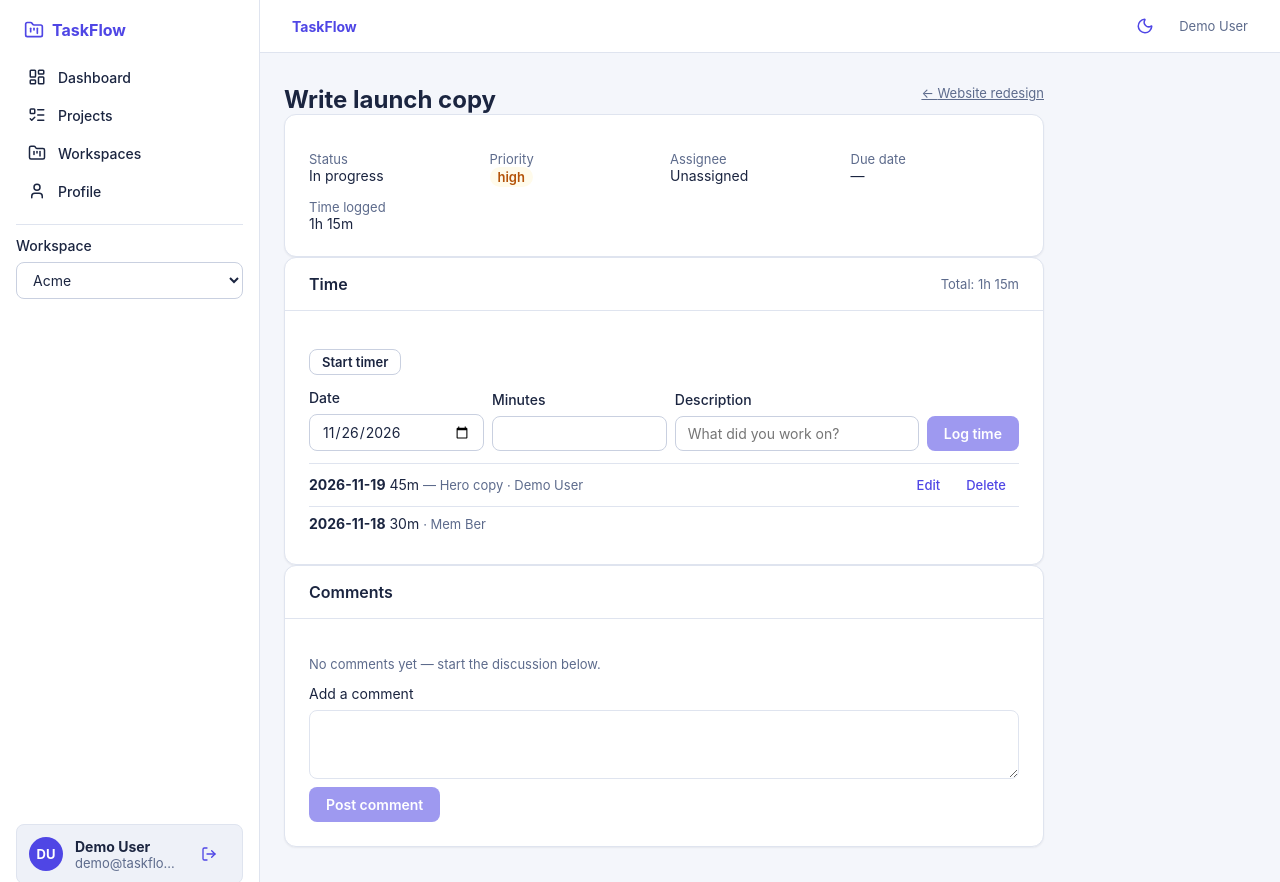
Test: Time tracking — "Member sees own-entry controls only" (@w2) › member can edit/delete own entries but not another member’s
Check: the text "— Hero copy" is shown, box [423,477,503,493]
Check: the button with aria-label "Delete time entry by Demo User" is shown, box [953,472,1019,498]
Note: edit flow updates minutes
Step 1. Click the button with aria-label "Edit time entry by Demo User" → (928, 485), box [904,472,953,498]
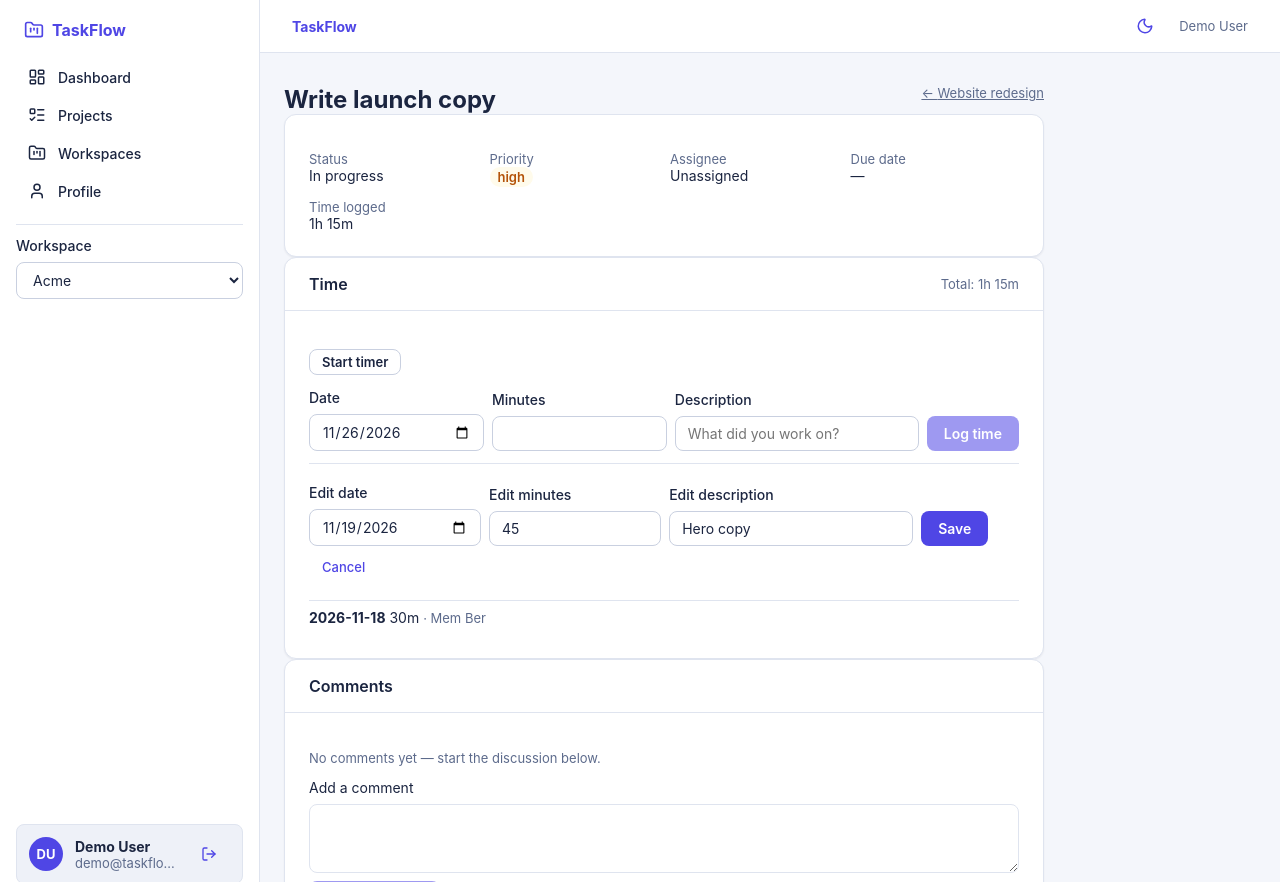
Step 2. Replace the text in the number field labelled "Edit minutes" with "60" → (575, 528), box [489,511,661,546]
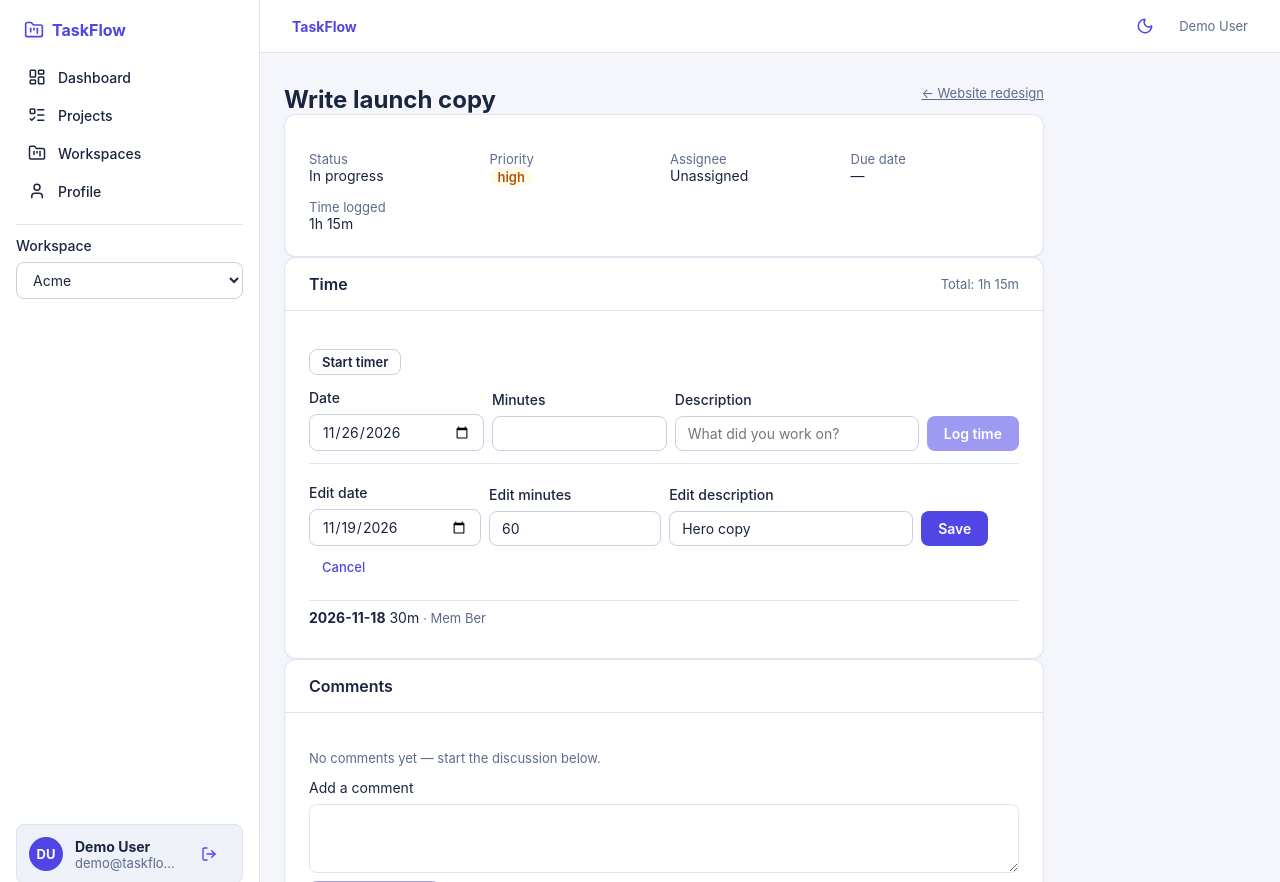
Step 3. Click the button "Save" → (955, 528), box [921,511,988,546]
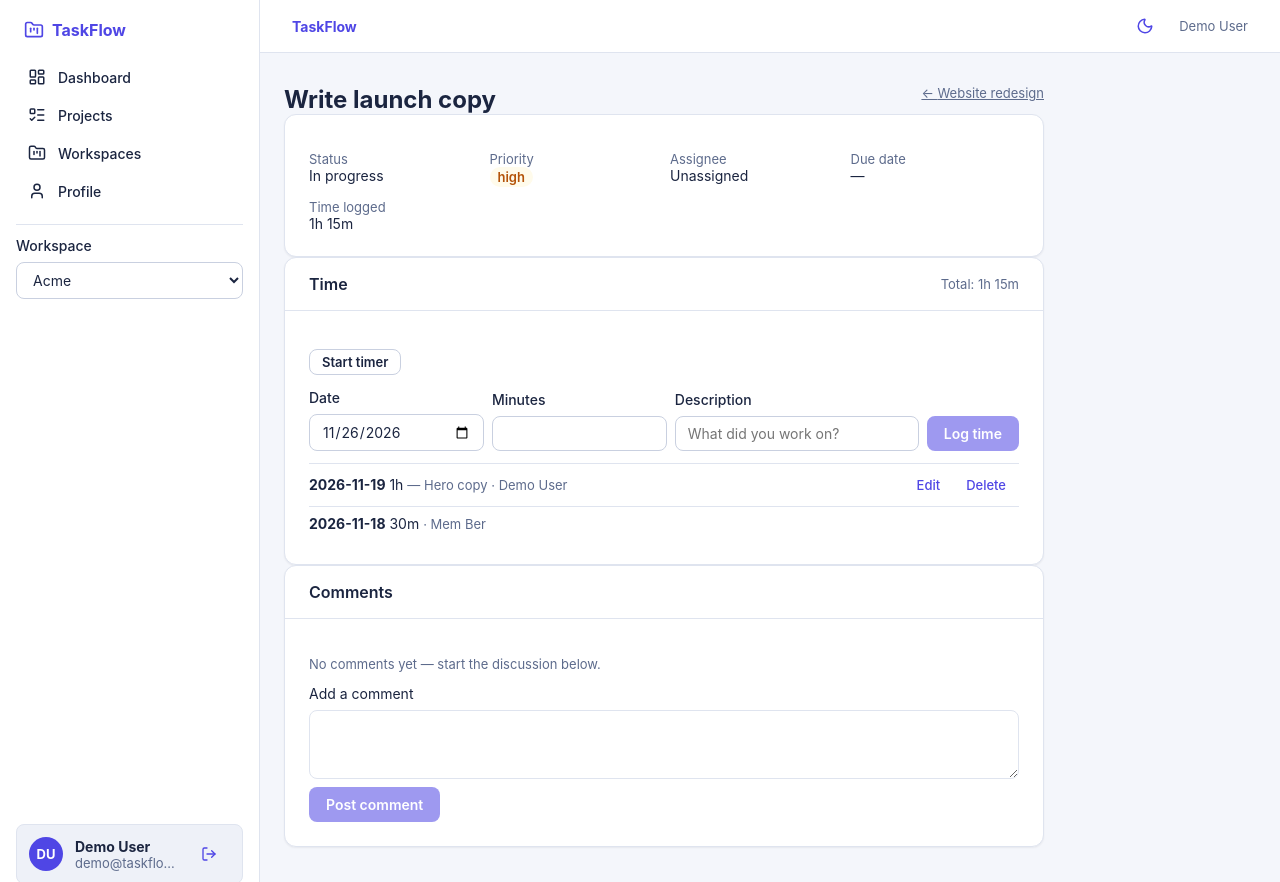
Check: the text "1h" is shown, box [389,476,403,493]
